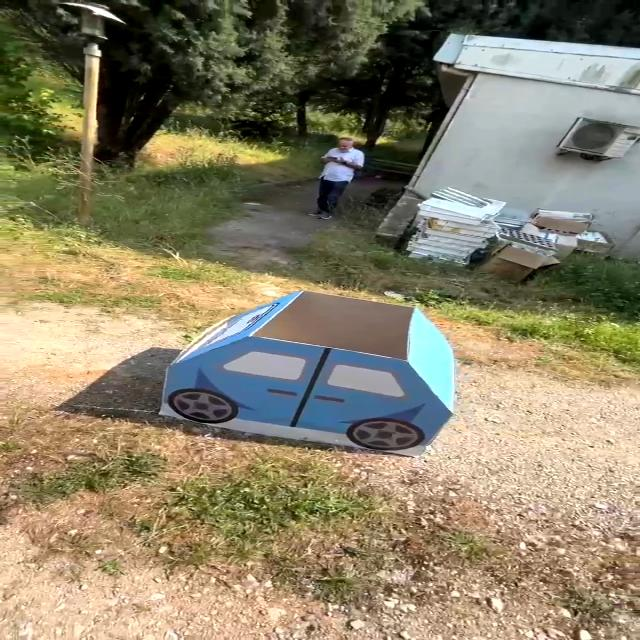blue_car: (128, 275, 461, 479)
